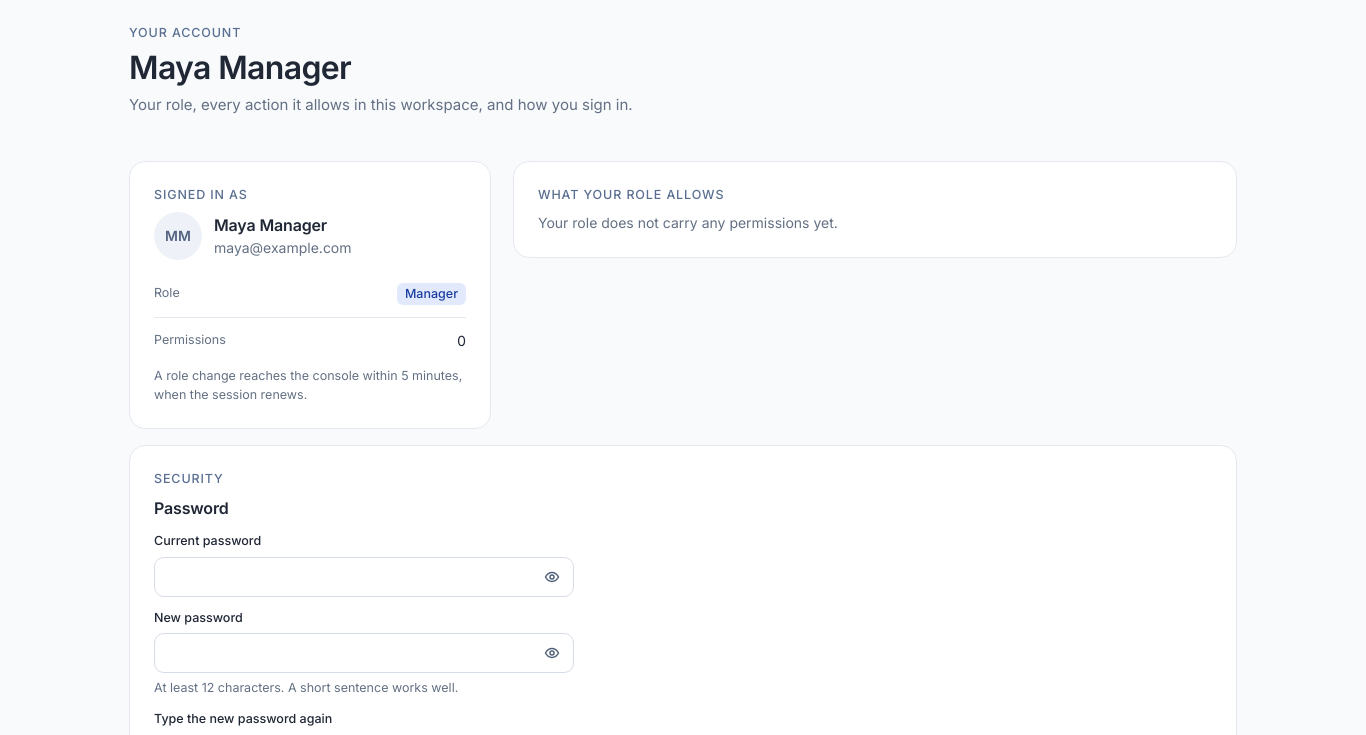
Test case: Profile security › puts a wrong current password under its field
This screenshot has width=1366, height=735.
Type "not my password" into the password field labelled "Current password". click: (364, 577)
box: [154,557,574,597]
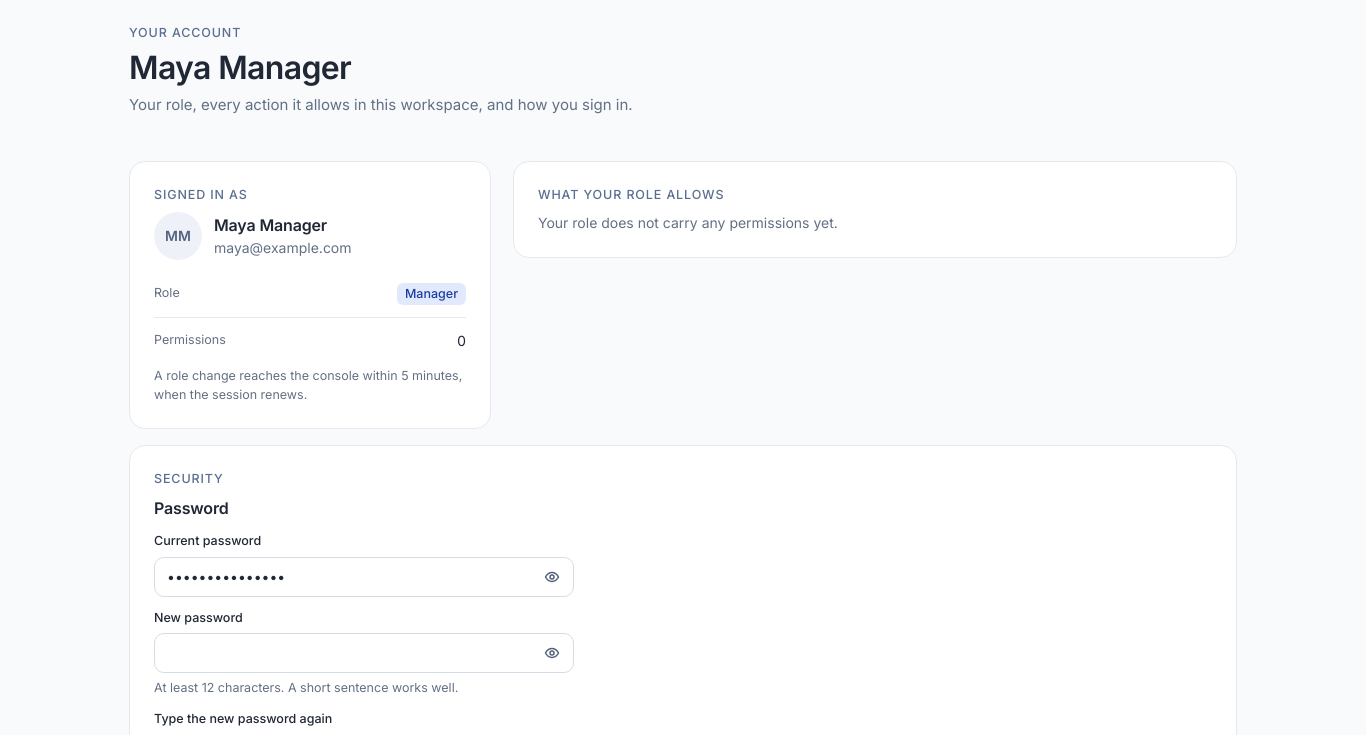
Type "a long new passphrase" into the password field labelled "New password". click: (364, 654)
box: [154,634,574,674]
(page scrolled)
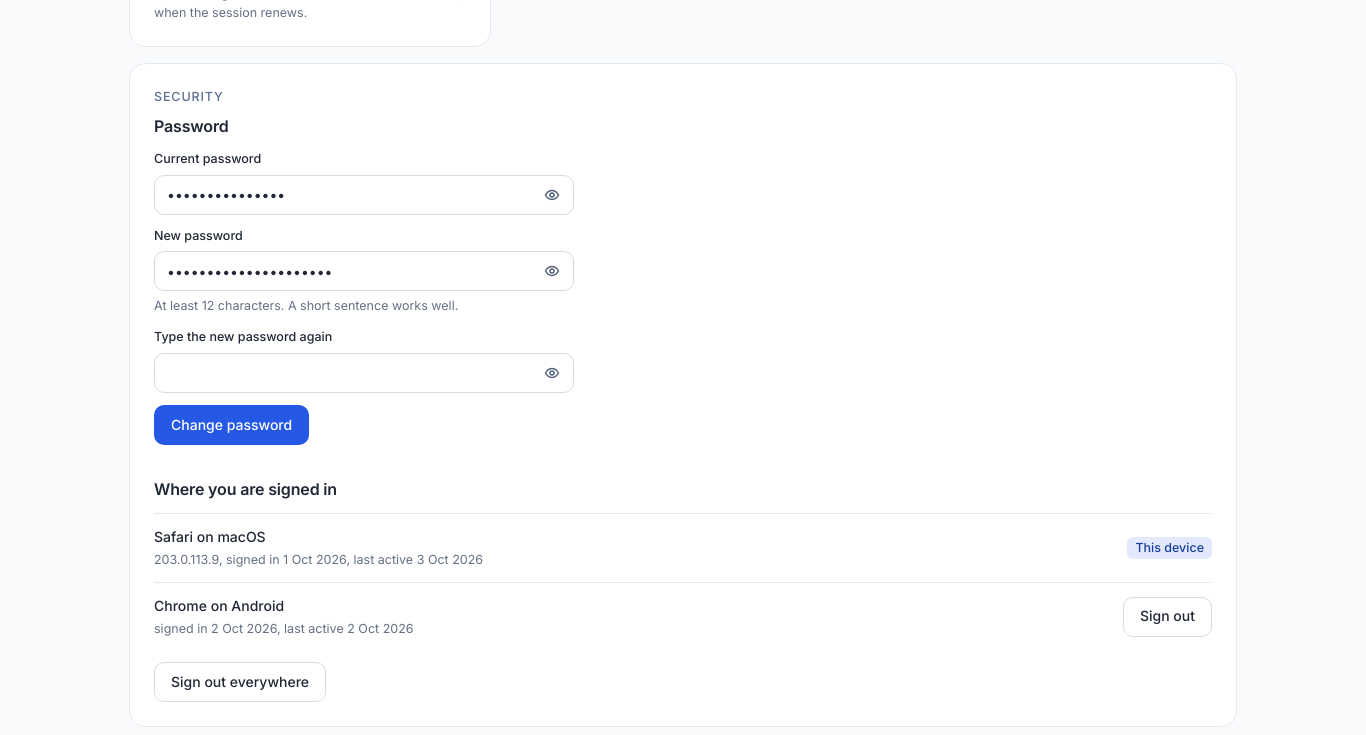
Type "a long new passphrase" into the password field labelled "Type the new password again". click: (364, 373)
box: [154,353,574,393]
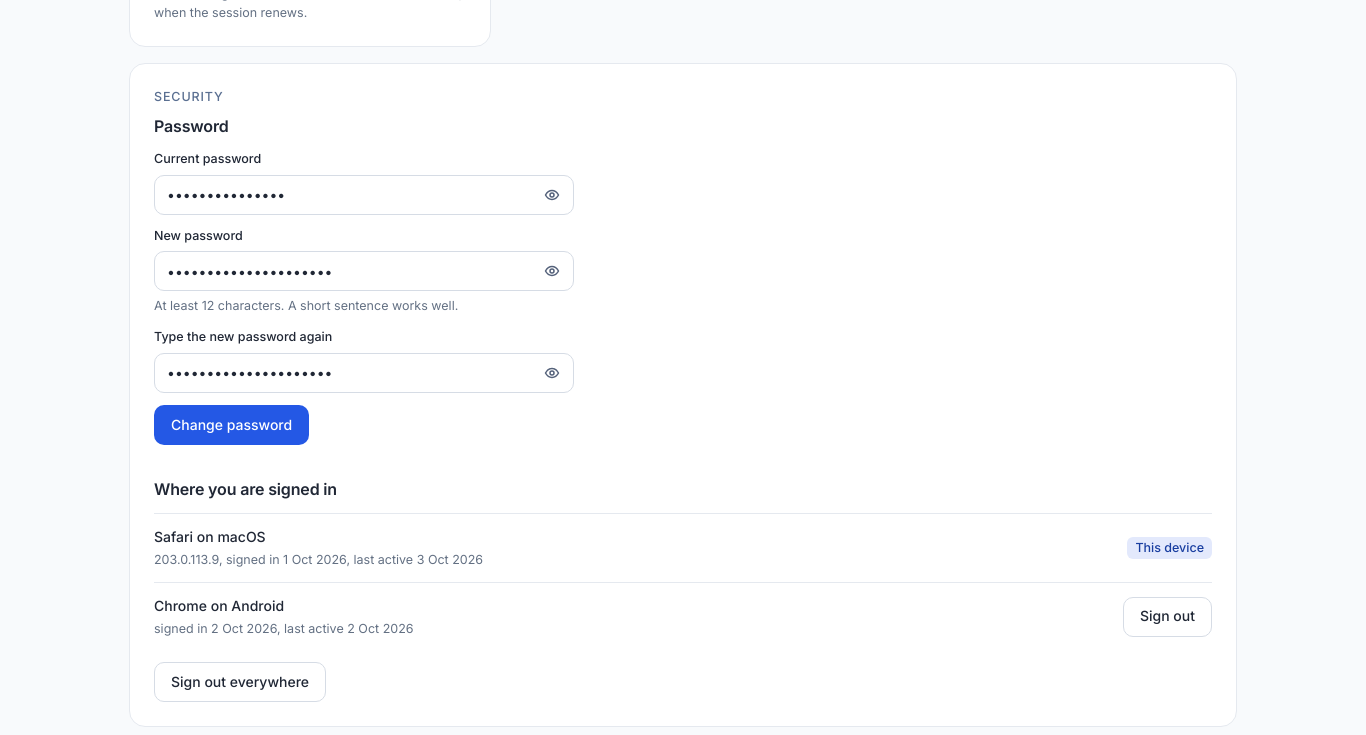
Click the button "Change password". click: (232, 425)
box: [154,405,309,445]
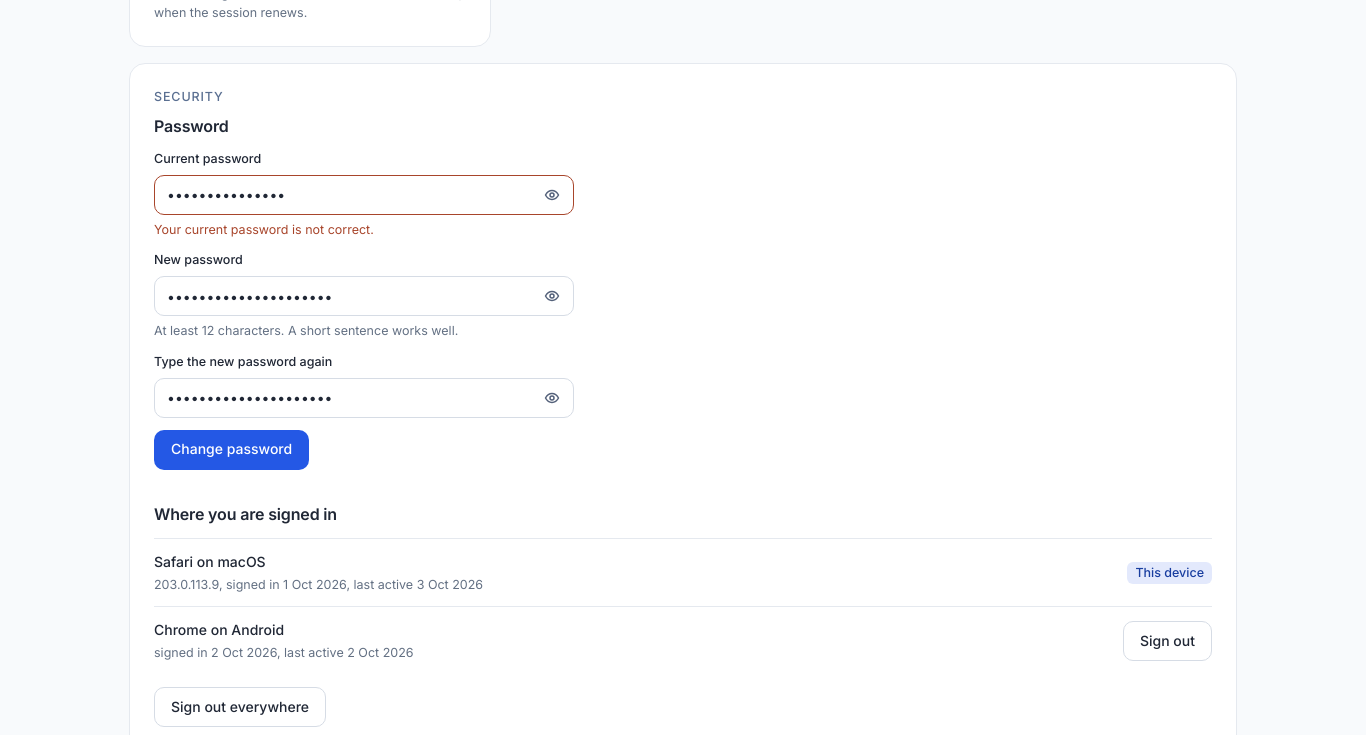
Expected: the text "Your current password is not correct." is shown, [154,222,374,237]
